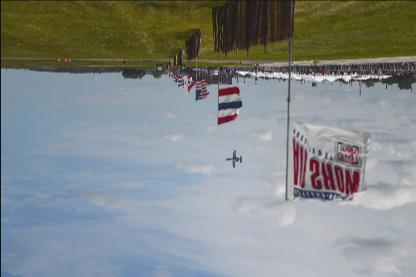A10: (224, 151, 240, 168)
